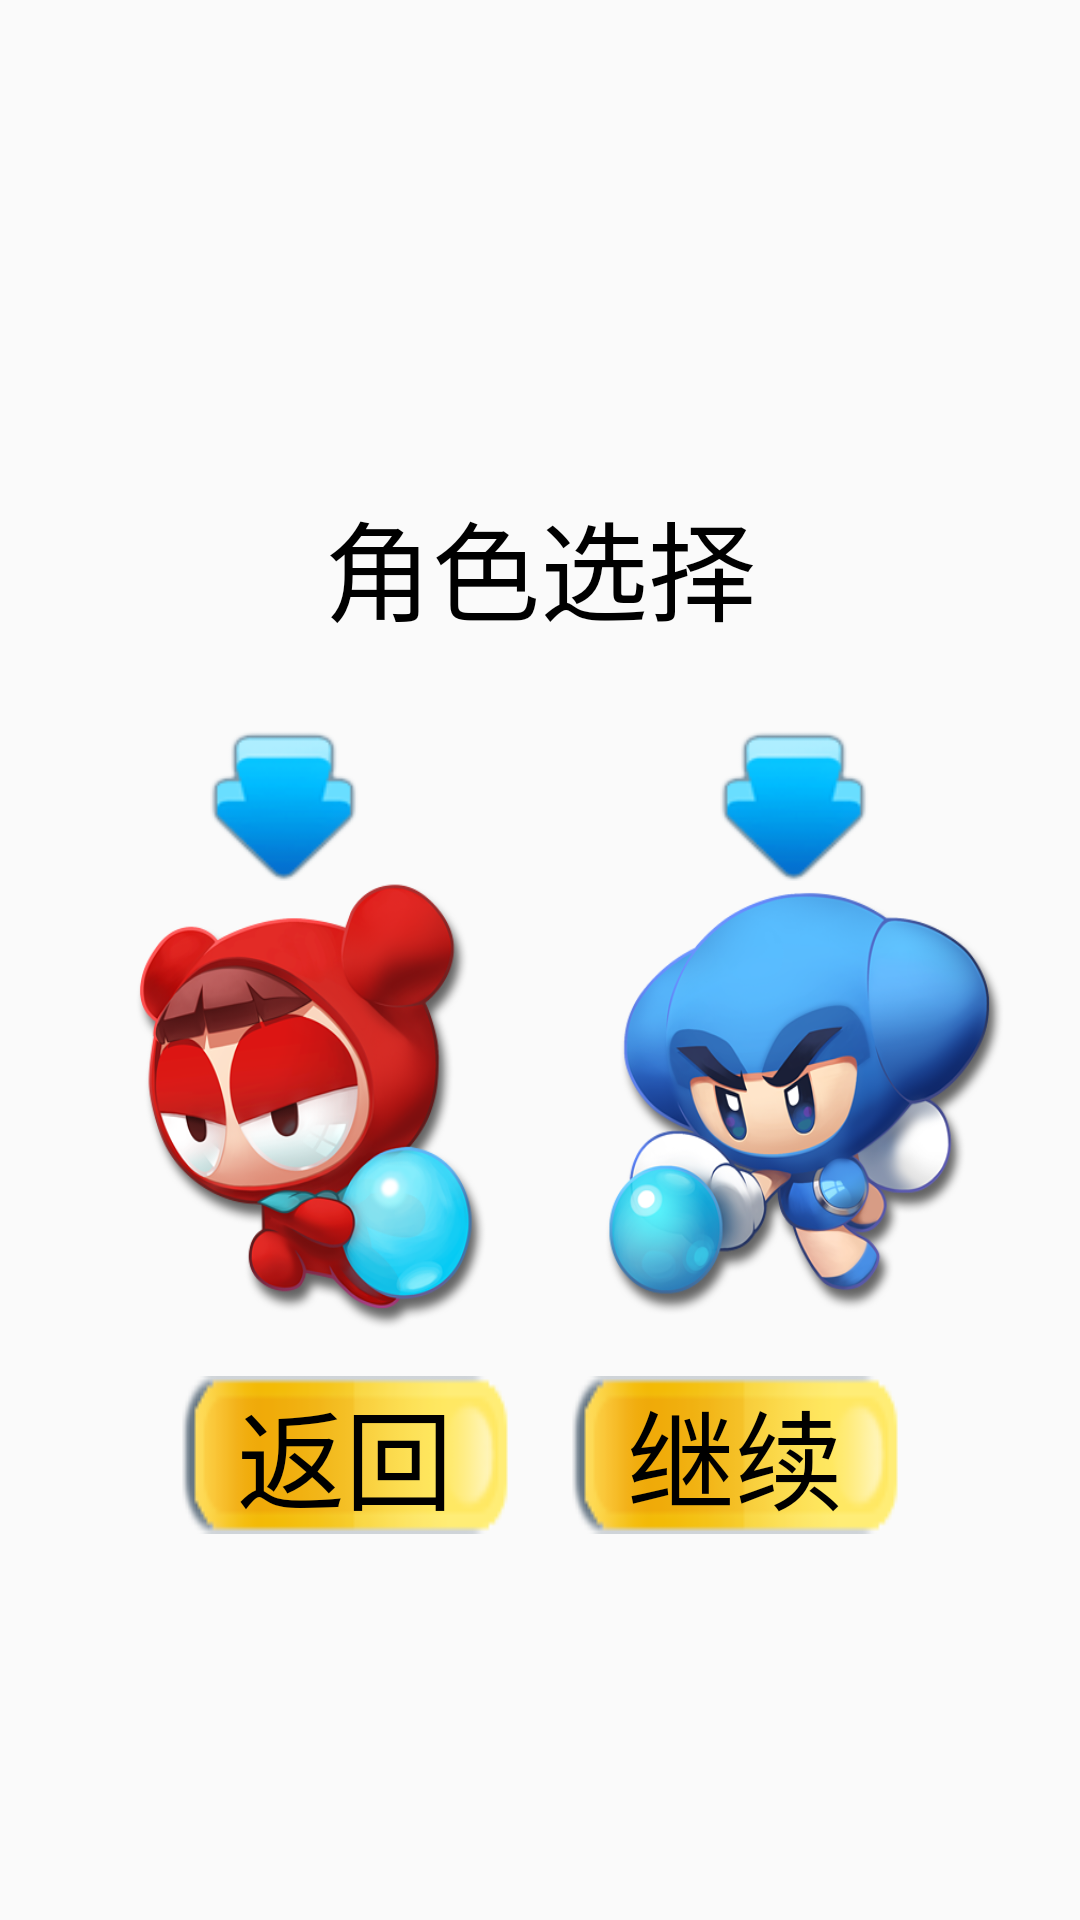

Icon bounding boxes for this 1080px×1920px phone screenshot, format (x1, y1, x2, y2):
arrow fig select: (212, 733, 356, 880), (722, 733, 866, 880)
